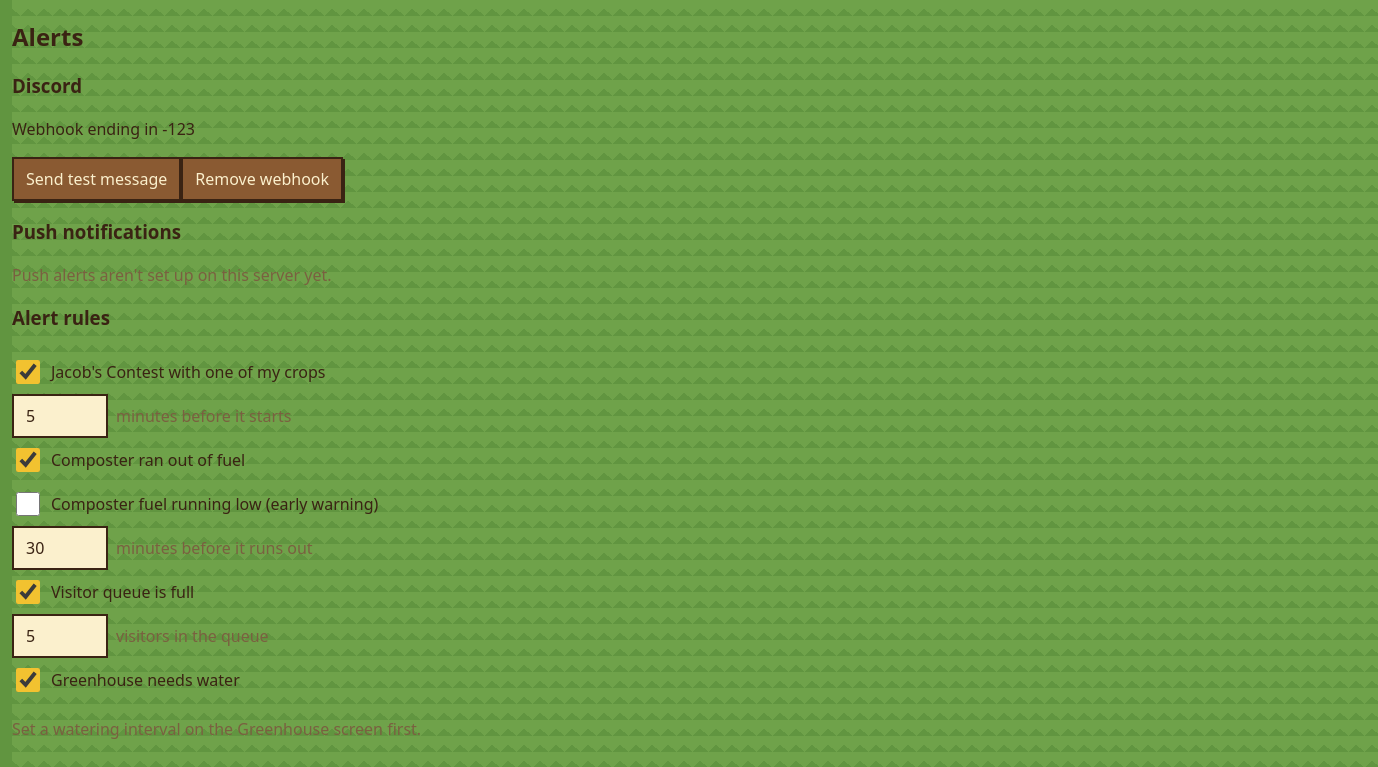
Test: AlertsSection › does not send an out-of-range threshold
Replace the text in the number field labelled "minutes before it starts" with "0" at (60, 416), box [12, 394, 108, 438]
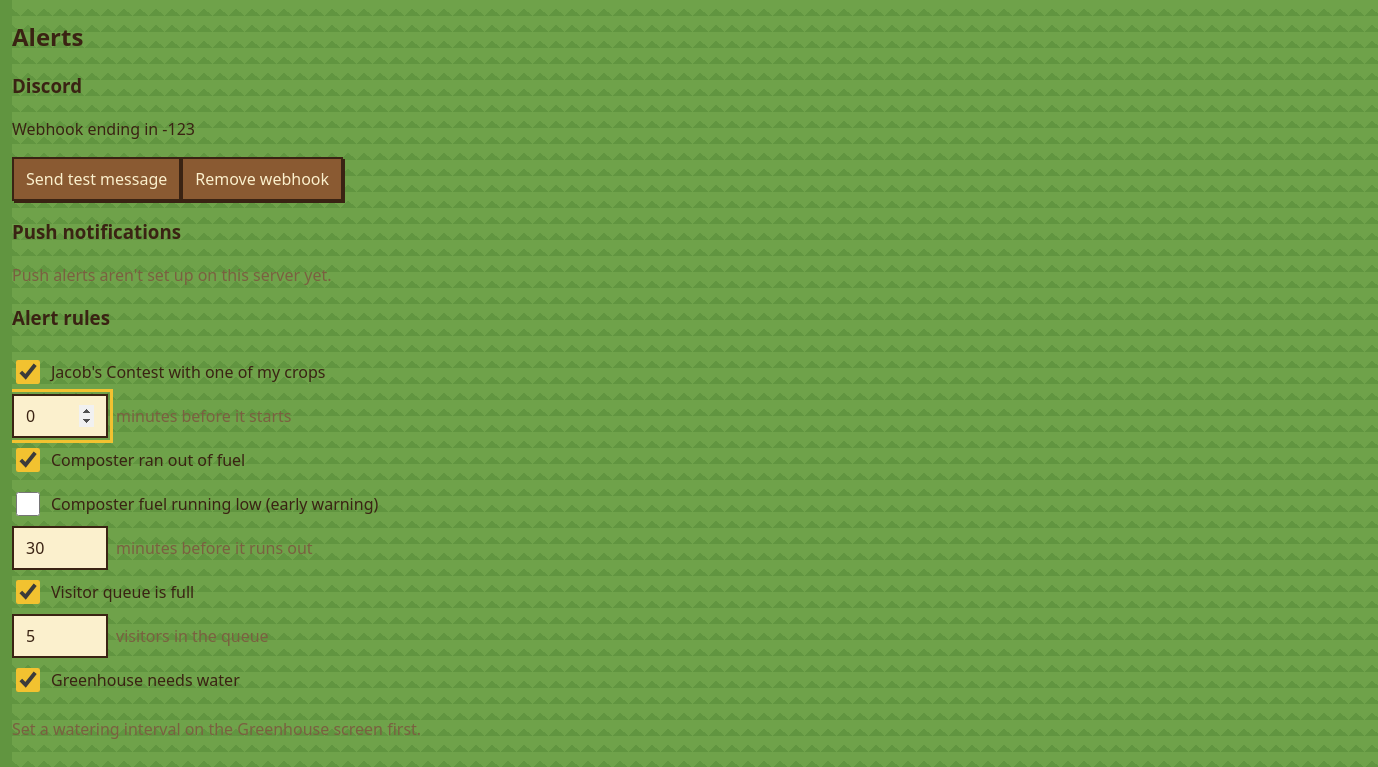
Press Tab
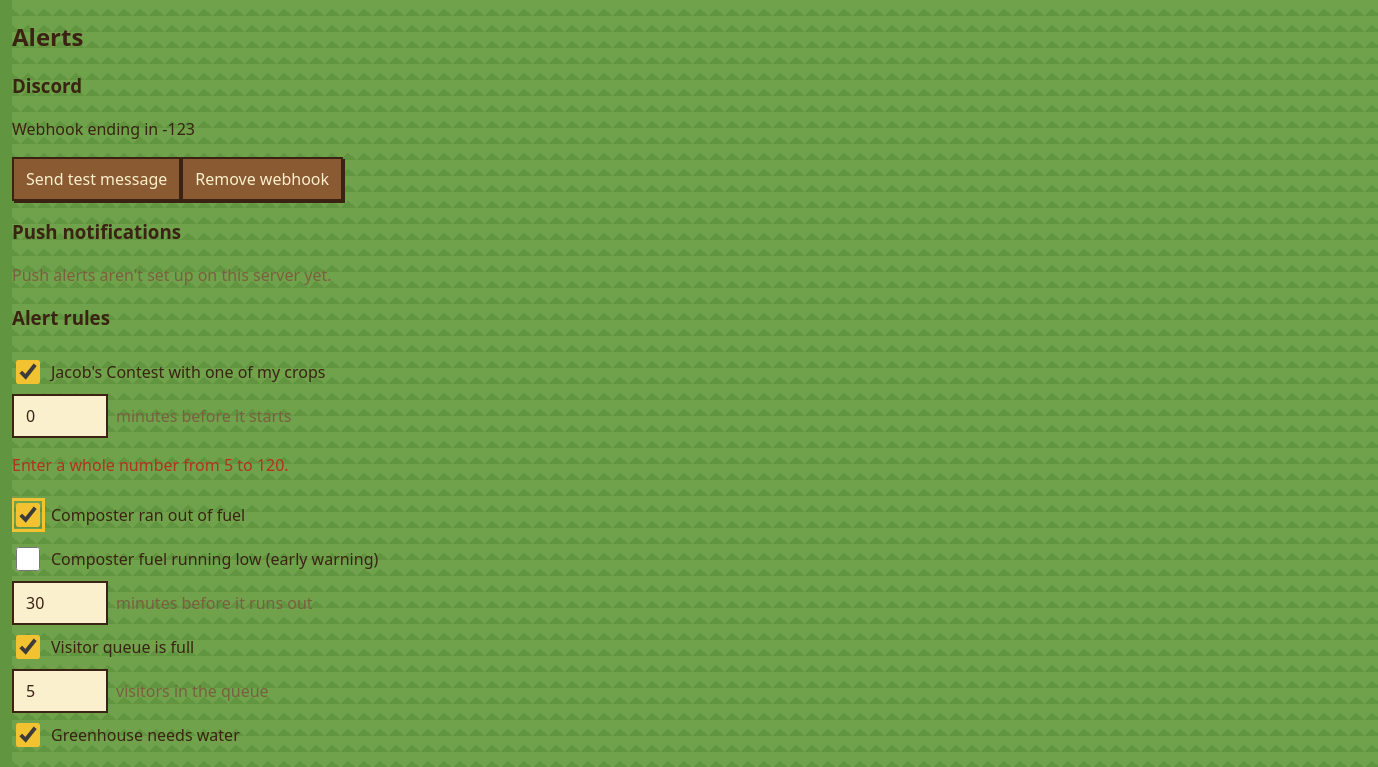
Expected: the text "Enter a whole number from 5 to 120." is shown, [12, 454, 289, 476]
